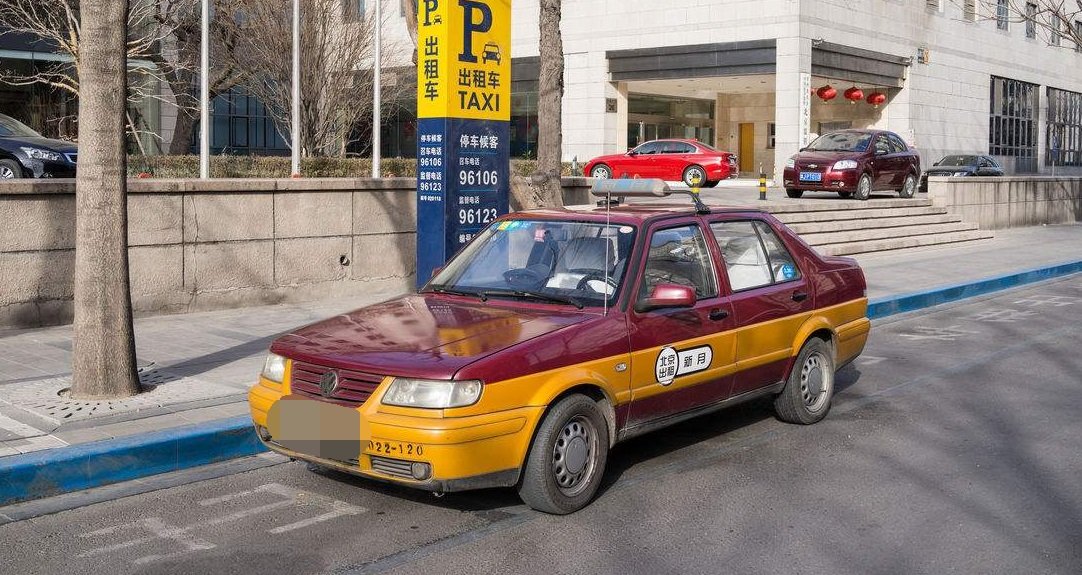taxi: (244, 172, 870, 520)
